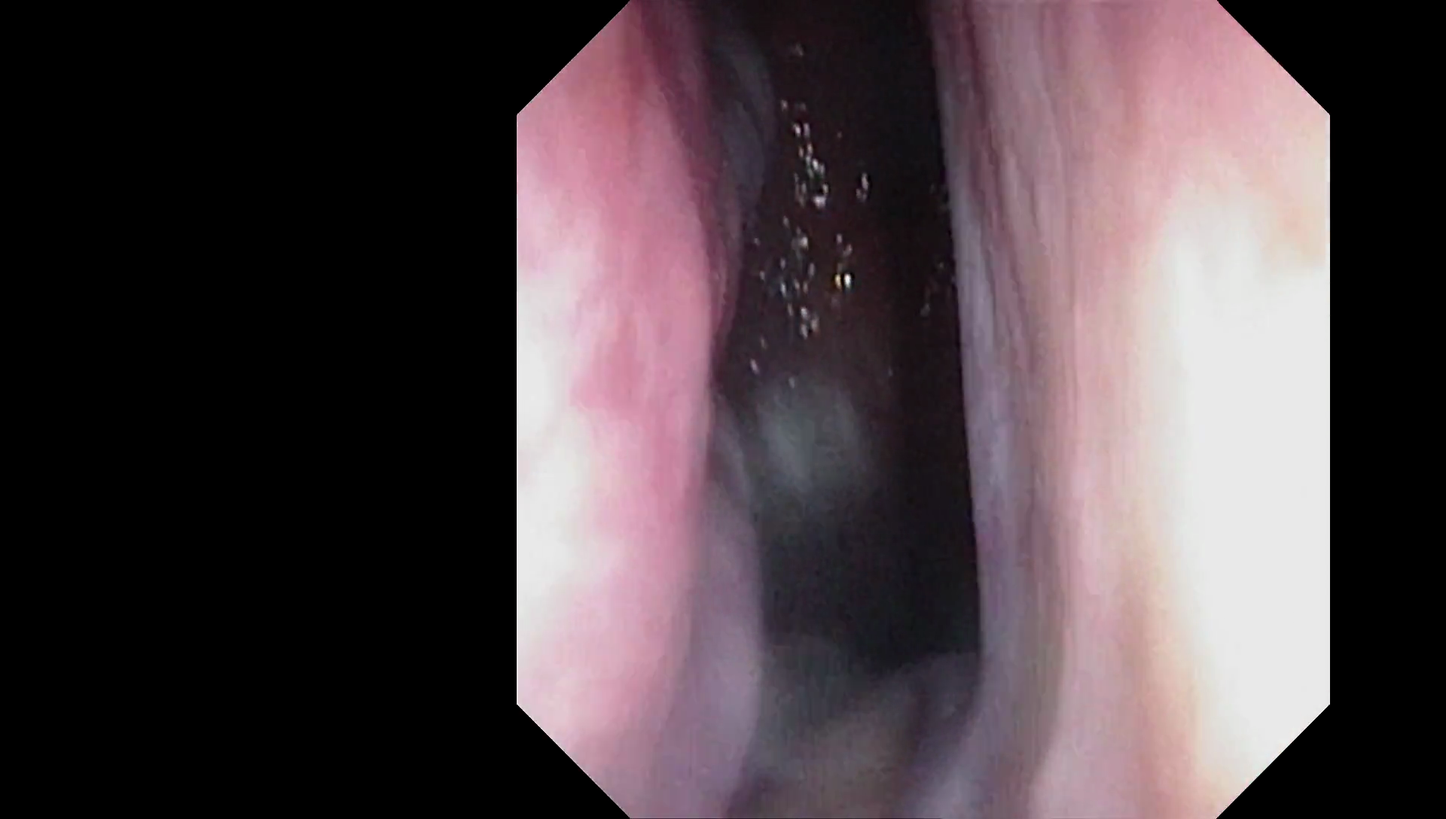close_wall: (1049, 132, 1324, 705), (521, 197, 705, 700)
next: (742, 288, 1025, 695)
